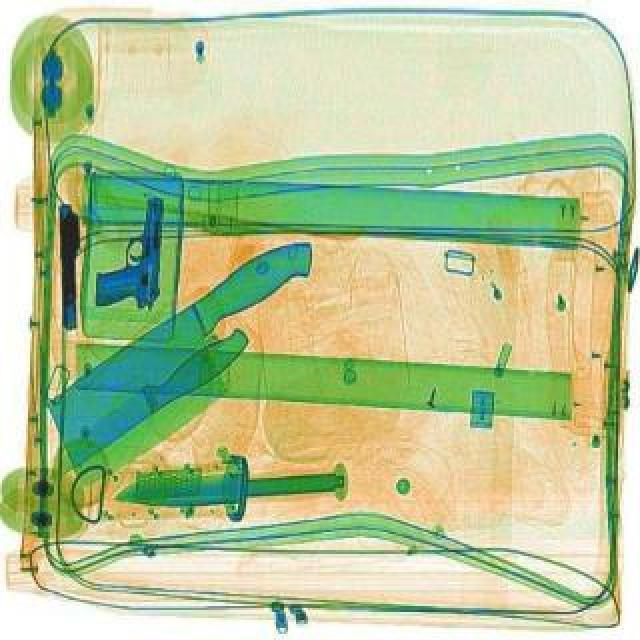gun: (96, 192, 168, 308), (58, 202, 86, 330)
knife: (22, 228, 362, 494), (34, 320, 258, 490), (114, 462, 342, 510)
